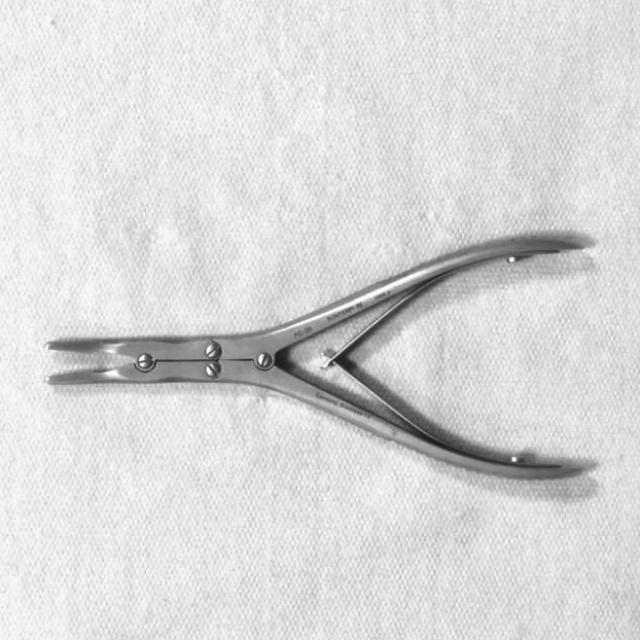gubia: (47, 231, 601, 483)
